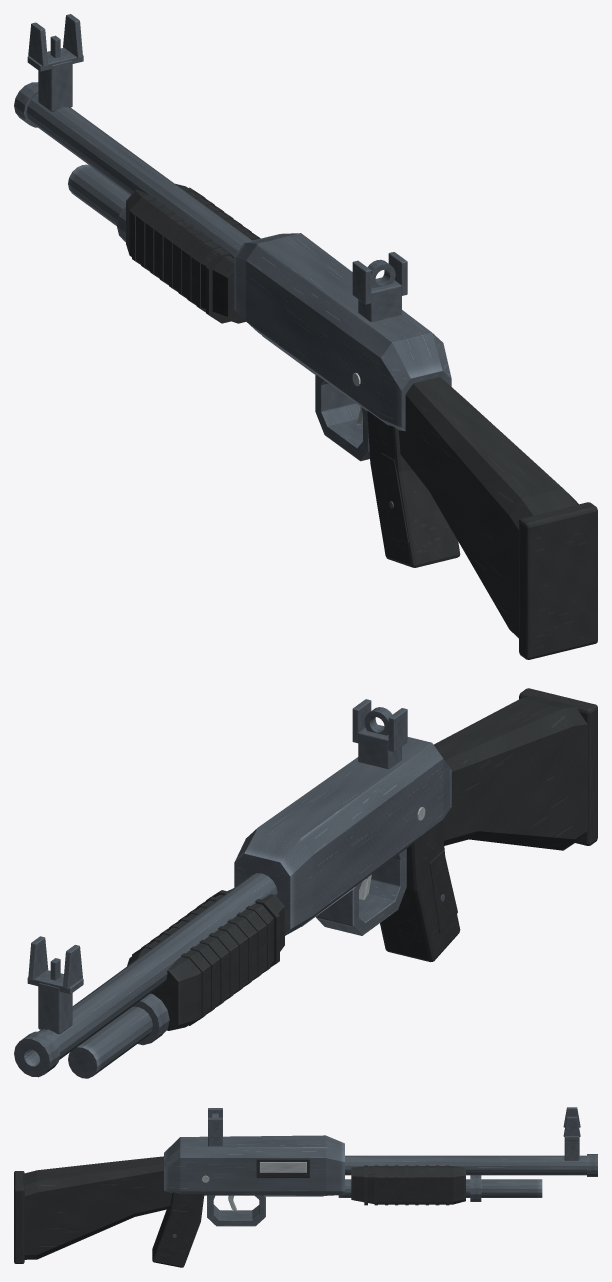
The picture shows the model from 3 angles, top to bottom: view 1: azimuth 30°, elevation 25°; view 2: azimuth 150°, elevation 25°; view 3: azimuth 270°, elevation 25°; orthographic projection. The views are drawn at different scales.
Visible parts, largest first — view 1: m3_Body, m3_Pump; view 2: m3_Body, m3_Pump; view 3: m3_Body, m3_Pump, m3_Bolt.
Part boxes in pixels (<box>): m3_Body: <box>14,14,597,659</box>; m3_Pump: <box>126,183,260,323</box>; m3_Body: <box>14,688,597,1078</box>; m3_Pump: <box>127,888,284,1030</box>; m3_Body: <box>14,1107,597,1267</box>; m3_Pump: <box>351,1165,465,1205</box>; m3_Bolt: <box>259,1162,306,1172</box>.
Bounding box in the file's own units: 0.1093 × 0.389 × 1.38.
Materials: 3 (3 with a texture image).
